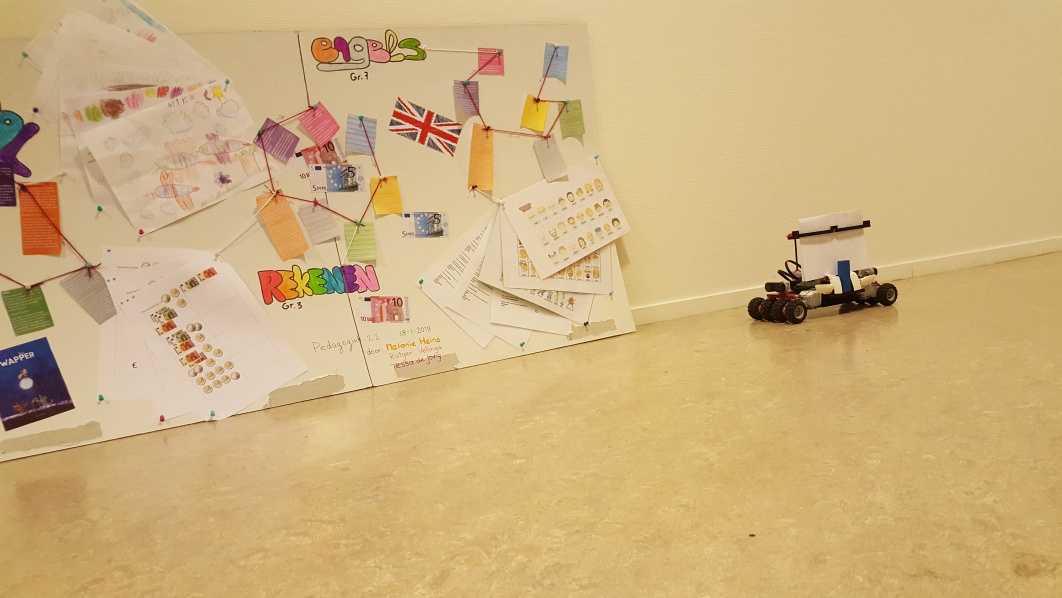beam: (834, 256, 858, 297)
